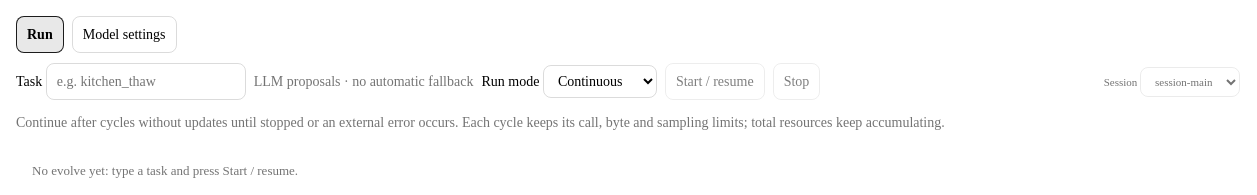
Test: RsiView › shows the submit RPC error without inventing a pending brief
The width and height of the screenshot is (1257, 195).
Expected: the text "No evolve yet: type a task and press Start / resume." is shown, [32,163,298,178]
Type "kitchen_thaw" into the field with placeholder "e.g. kitchen_thaw".
click(146, 82); type("kitchen_thaw")  # box [46,63,246,100]
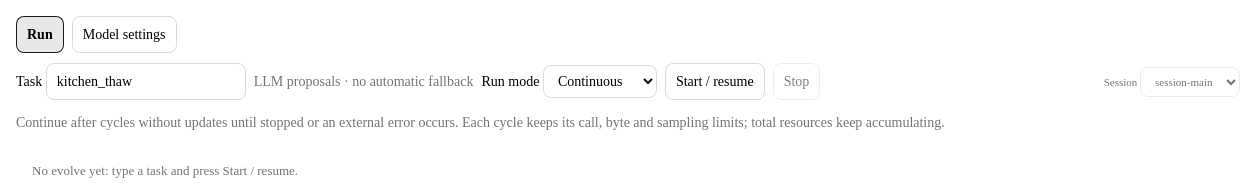
Click the button "Start / resume".
click(715, 82)  # box [665,63,765,100]
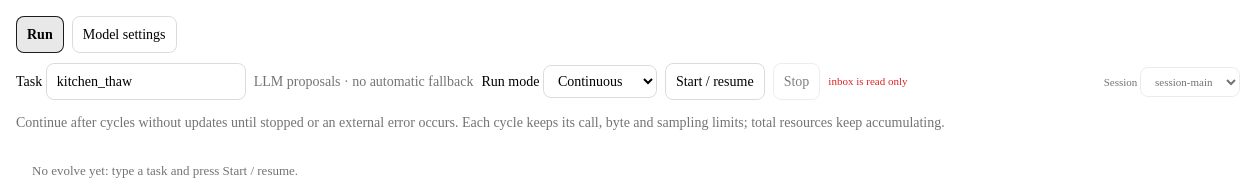
Expected: the button "Start / resume" is enabled, [665,63,765,100]
Expected: the text "inbox is read only" is shown, [828,73,907,90]
